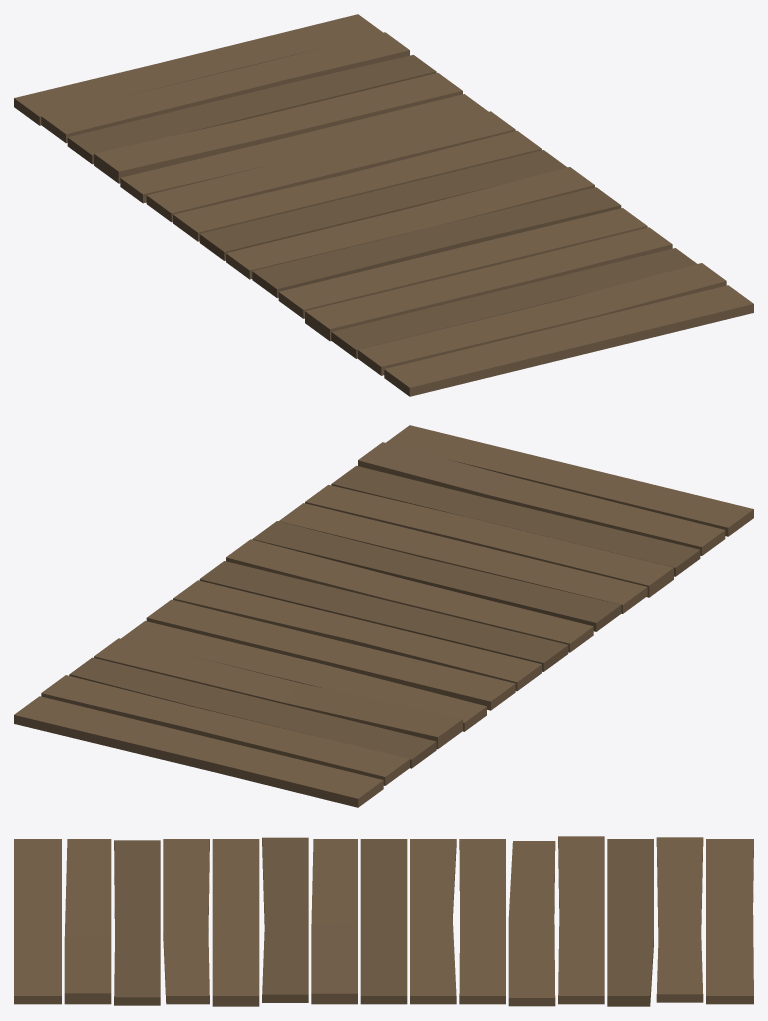
File: SM_Props_City_Beach_Pier_Floor_02.fbx
The picture shows the model from 3 angles, top to bottom: view 1: azimuth 30°, elevation 25°; view 2: azimuth 150°, elevation 25°; view 3: azimuth 270°, elevation 25°; orthographic projection. The views are drawn at different scales.
Parts seen in each view (by area): view 1: SM_Props_City_Beach_Pier_Floor_02; view 2: SM_Props_City_Beach_Pier_Floor_02; view 3: SM_Props_City_Beach_Pier_Floor_02.
Boxes of the visible parts, x1=… form: SM_Props_City_Beach_Pier_Floor_02: x1=14, y1=14, x2=753, y2=396; SM_Props_City_Beach_Pier_Floor_02: x1=14, y1=425, x2=753, y2=807; SM_Props_City_Beach_Pier_Floor_02: x1=14, y1=836, x2=753, y2=1006.
Size of the model in its own units: 200 by 8.39 by 398.
